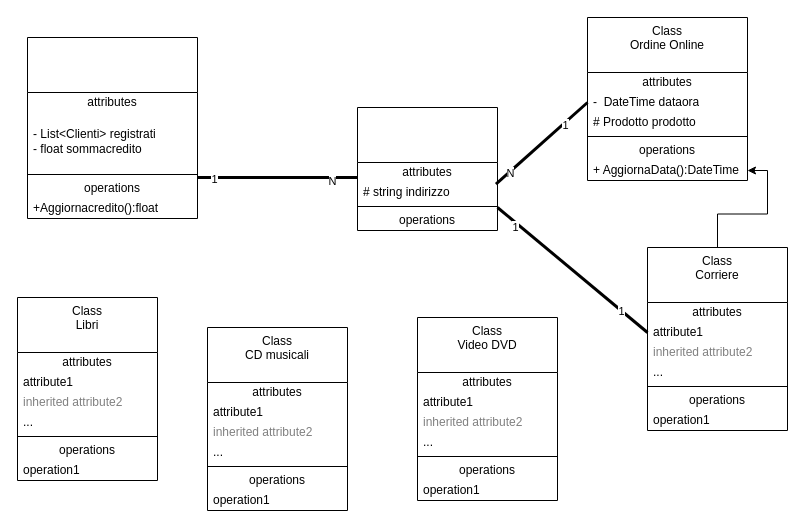
The diagram is 805 pixels wide and 528 high, and some of its shapes have lost their labels. Here are the shapes that lost their labels. From the top down, the box of each, then its label:
(26, 36, 198, 218): Class Libreria
(356, 106, 498, 230): Class Clienti
